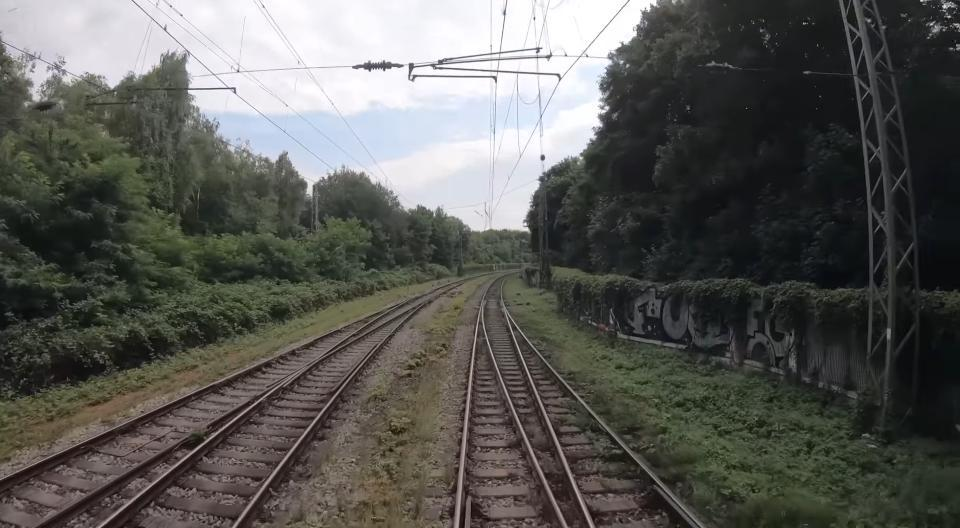Plant: (504, 275, 960, 528), (0, 275, 454, 462), (327, 300, 463, 528)
